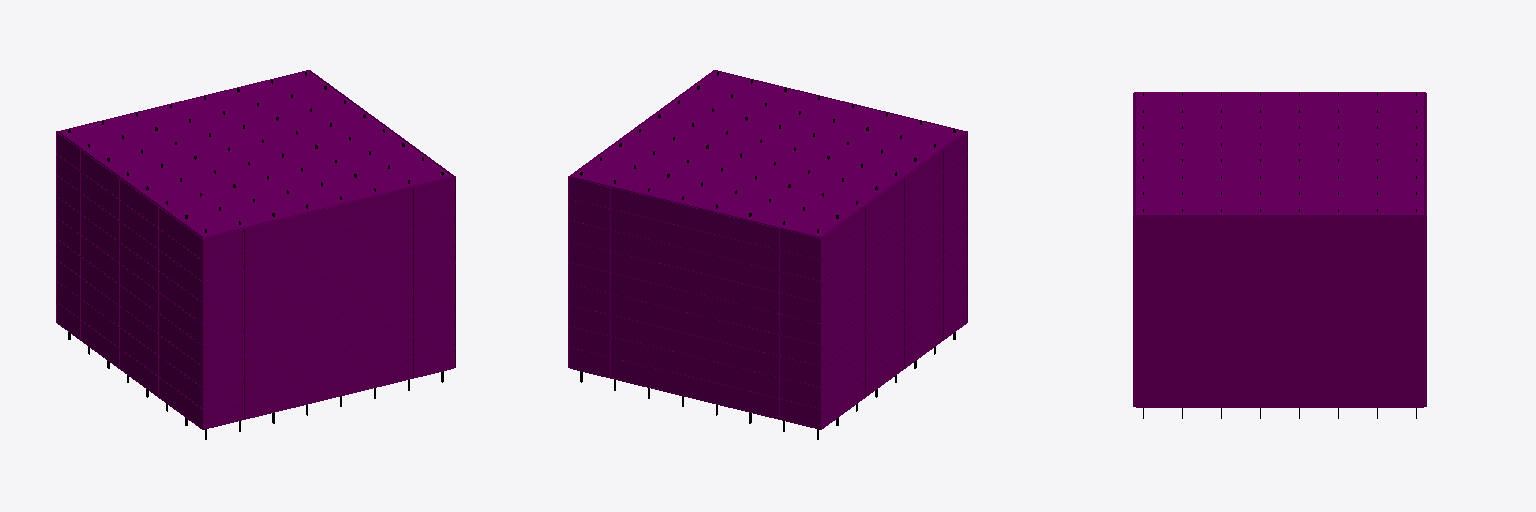
The model's file is sample.obj.
3 renders of one model, left to right at view 1: azimuth 30°, elevation 25°; view 2: azimuth 150°, elevation 25°; view 3: azimuth 270°, elevation 25°, orthographic.
Visible parts, largest first — view 1: Glass, Default_Floor, Aluminum, Steel_ASTM_A992; view 2: Glass, Default_Floor, Aluminum, Steel_ASTM_A992; view 3: Glass, Default_Floor, Aluminum.
Boxes of the visible parts, box(x1,y1,x2,y2) form: Glass: box(57, 71, 454, 428); Default_Floor: box(59, 71, 452, 429); Aluminum: box(56, 70, 455, 429); Steel_ASTM_A992: box(68, 72, 443, 439); Glass: box(569, 71, 966, 428); Default_Floor: box(571, 71, 964, 429); Aluminum: box(568, 70, 967, 429); Steel_ASTM_A992: box(580, 72, 955, 439); Glass: box(1134, 93, 1425, 406); Default_Floor: box(1136, 93, 1423, 407); Aluminum: box(1133, 92, 1426, 406).
Bounding box in the file's own units: 1805 × 1428 × 1805.